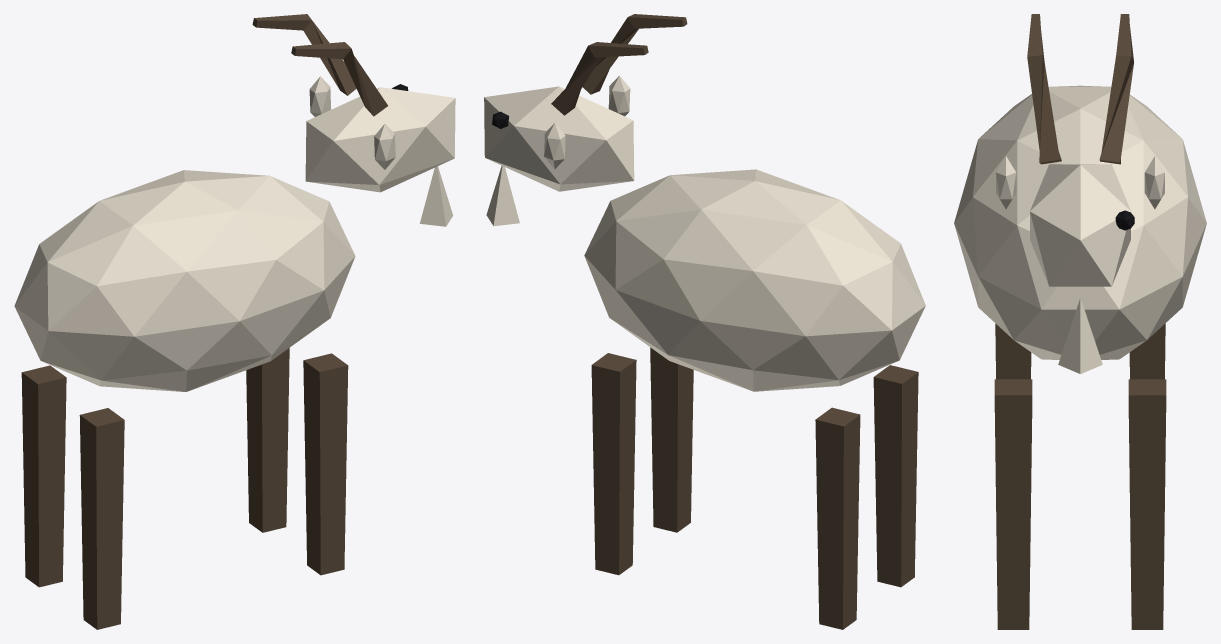
Rendered from goat.glb.
3 views of the same model, side by side, from view 1: azimuth 30°, elevation 25°; view 2: azimuth 150°, elevation 25°; view 3: azimuth 270°, elevation 25° (orthographic). The views are drawn at different scales.
Visible parts, largest first — view 1: goat; view 2: goat; view 3: goat.
Part boxes in pixels (bbox=[...]): goat: bbox=[14, 14, 455, 629]; goat: bbox=[484, 14, 925, 629]; goat: bbox=[954, 14, 1206, 629].
Size of the model in its own units: 0.759 by 0.8856 by 0.34.
